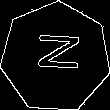N_W: (30, 36, 81, 79)
